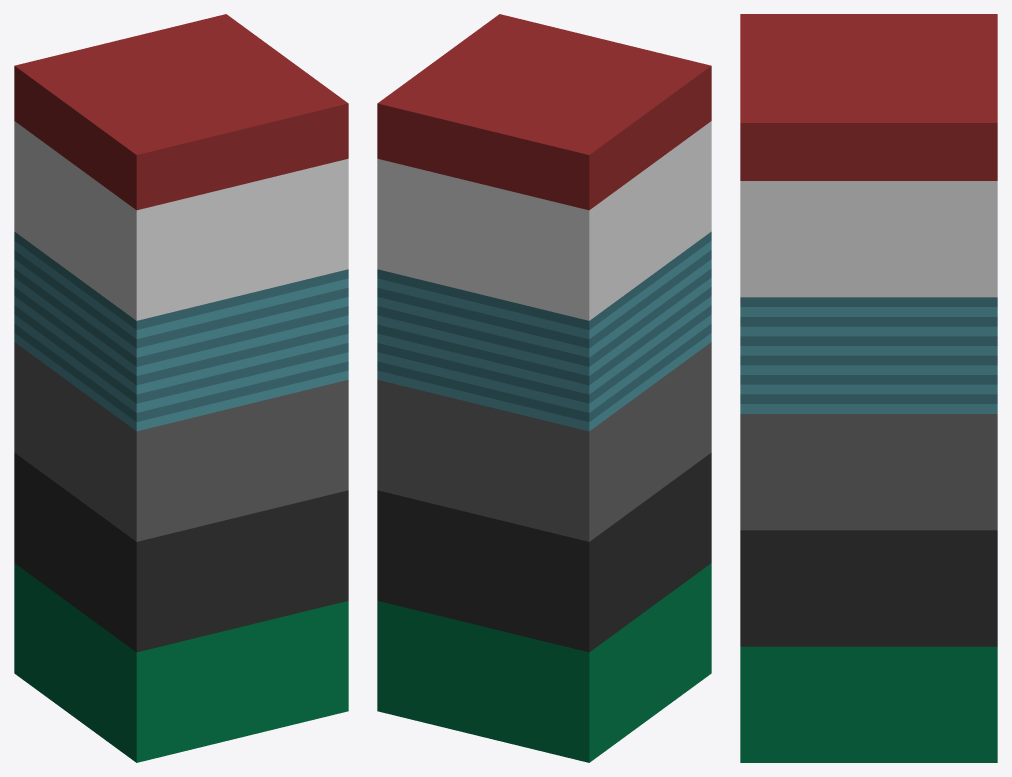
File: cubeSteve.fbx
3 views of the same model, side by side, from view 1: azimuth 30°, elevation 25°; view 2: azimuth 150°, elevation 25°; view 3: azimuth 270°, elevation 25° (orthographic). The views are drawn at different scales.
Parts seen in each view (by area): view 1: cubeSteve; view 2: cubeSteve; view 3: cubeSteve.
Part boxes in pixels (x1,y1,x2,y2): cubeSteve: (14, 14, 348, 762); cubeSteve: (377, 14, 711, 762); cubeSteve: (740, 14, 997, 762).
Bounding box in the file's own units: 61.13 × 168 × 61.07.
